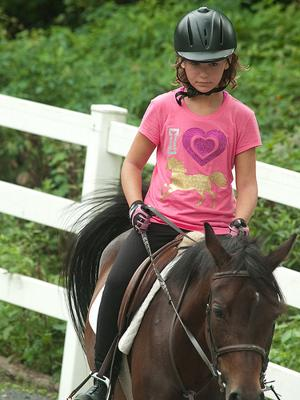person: (74, 8, 260, 400)
